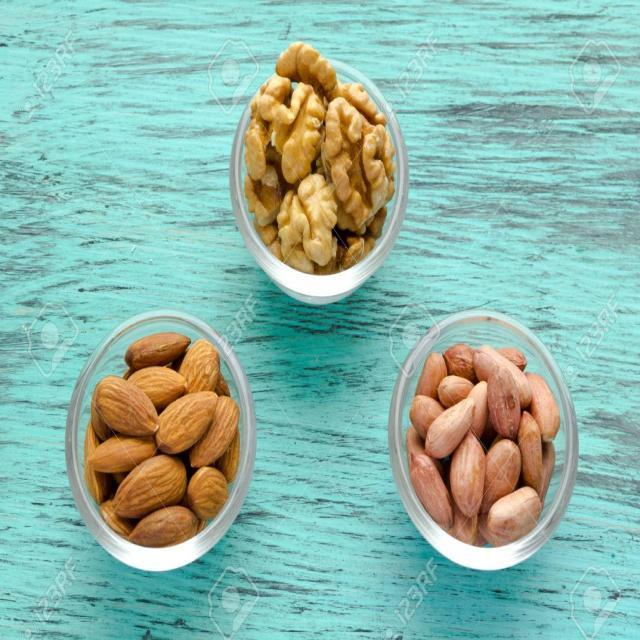Frutta secca: (246, 47, 385, 270), (90, 356, 240, 536), (417, 349, 558, 535)
